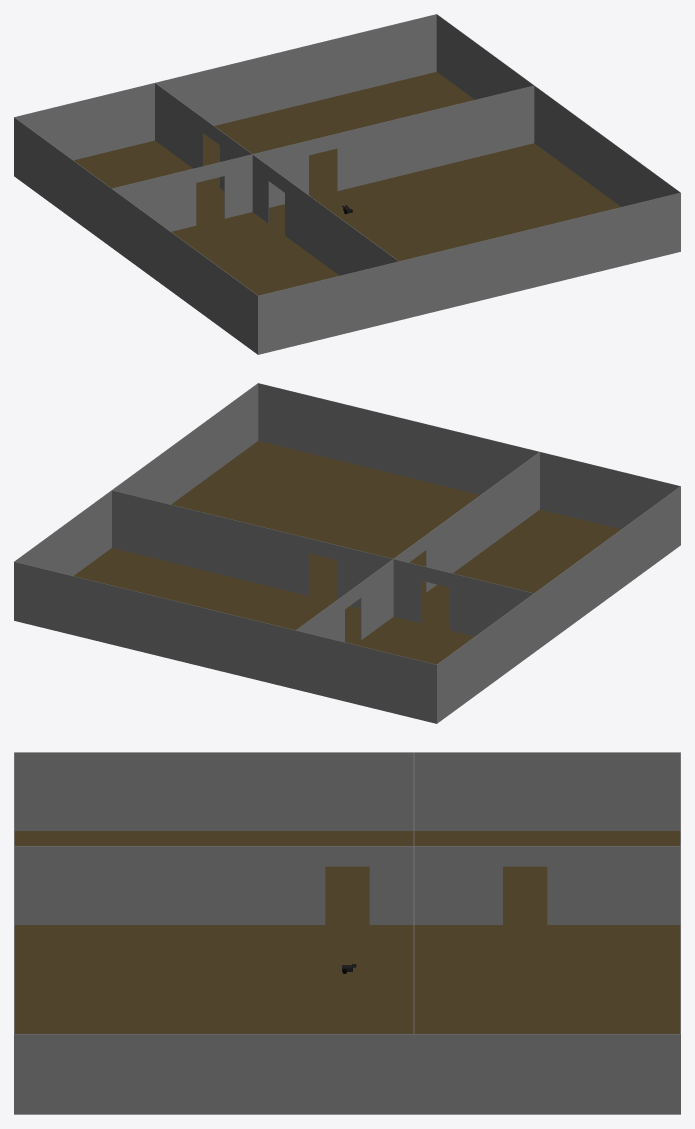
Rendered from TextureFloorHome.dae.
The picture shows the model from 3 angles, top to bottom: view 1: azimuth 30°, elevation 25°; view 2: azimuth 150°, elevation 25°; view 3: azimuth 270°, elevation 25°; orthographic projection. The views are drawn at different scales.
Visible parts, largest first — view 1: Plane, Cube_005, Cube_004, Cube_006, Cube_003, Cube_002, Cube_007; view 2: Plane, Cube_004, Cube_005, Cube_006, Cube_003, Cube_002, Cube_007; view 3: Plane, Cube_002, Cube_003, Cube_007, Cube_006.
Part boxes in pixels (x1,y1,x2,y2): Plane: (74,72,620,295); Cube_005: (258,192,680,354); Cube_004: (14,14,436,160); Cube_006: (112,85,534,231); Cube_003: (14,117,258,354); Cube_002: (436,14,680,206); Cube_007: (155,83,398,275); Plane: (74,441,620,664); Cube_004: (14,561,436,723); Cube_005: (258,383,680,529); Cube_006: (112,490,533,636); Cube_003: (436,486,680,723); Cube_002: (14,383,258,575); Cube_007: (296,452,539,642); Plane: (14,831,680,1033); Cube_002: (14,1034,680,1114); Cube_003: (14,752,680,830); Cube_007: (14,846,680,924); Cube_006: (413,752,414,1033).
Bounding box in the file's own units: 30.03 × 30.03 × 4.
